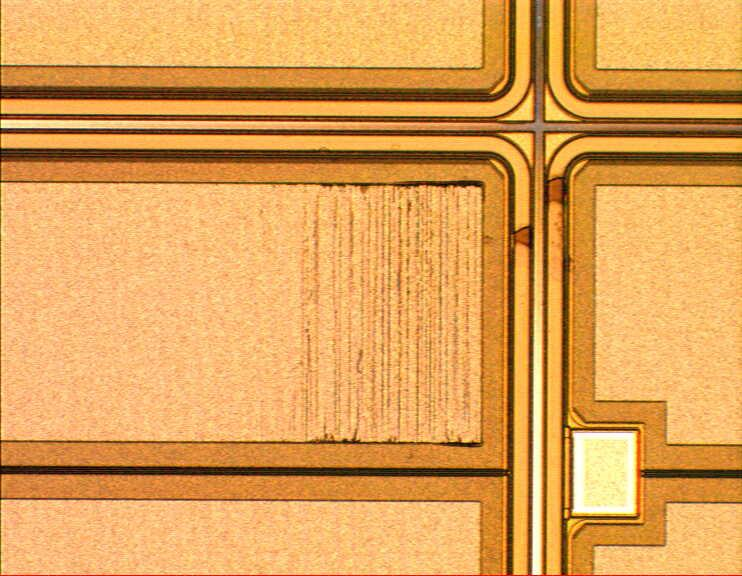SEZ BURNT: (261, 179, 487, 447)
